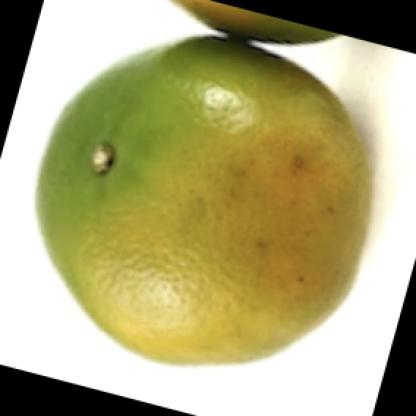fresh: (41, 39, 369, 373)
